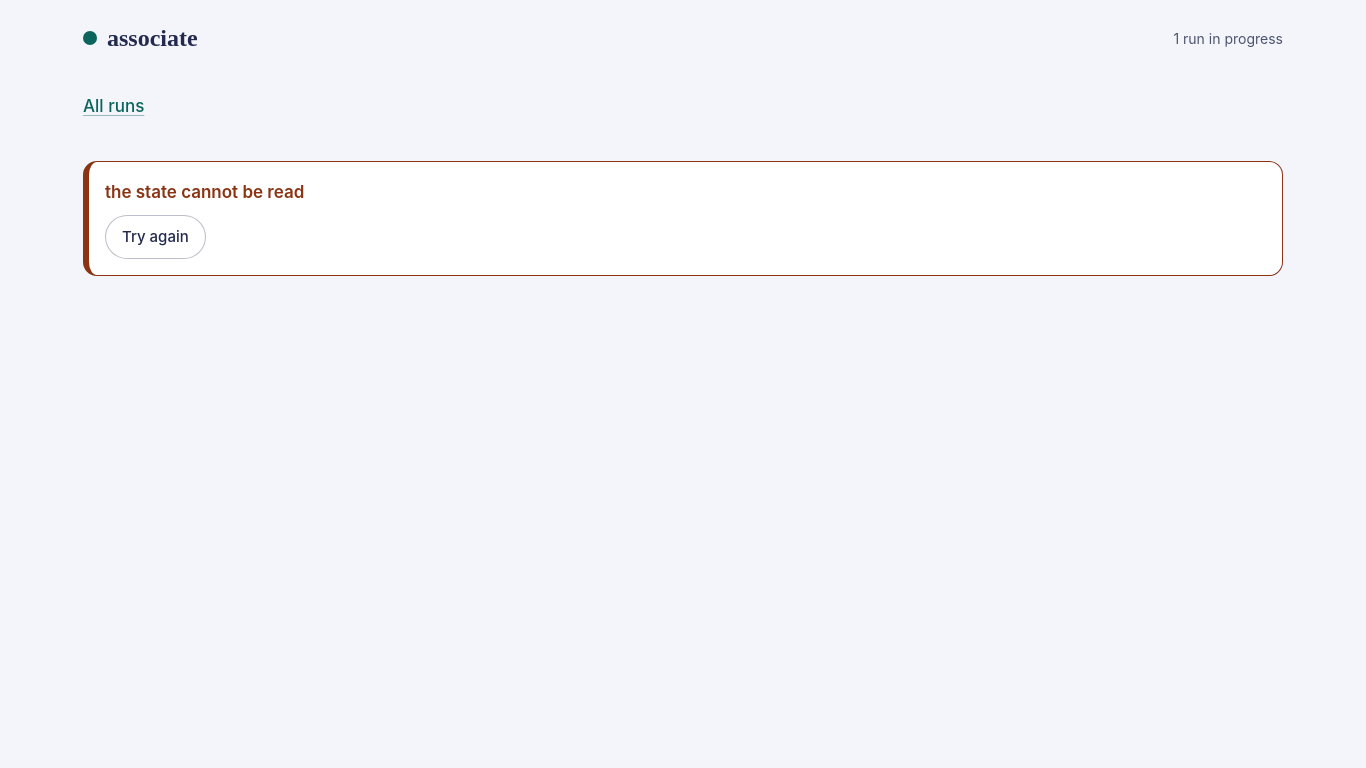
Test: the run page's states › shows an error with a retry
Expected: the message shows "the state cannot be read", x1=105 y1=182 x2=304 y2=202
What coordinates should you click on to do the following:
click the button "Try again"
I would click on:
 (155, 237)
Its box is x1=105 y1=215 x2=206 y2=259.
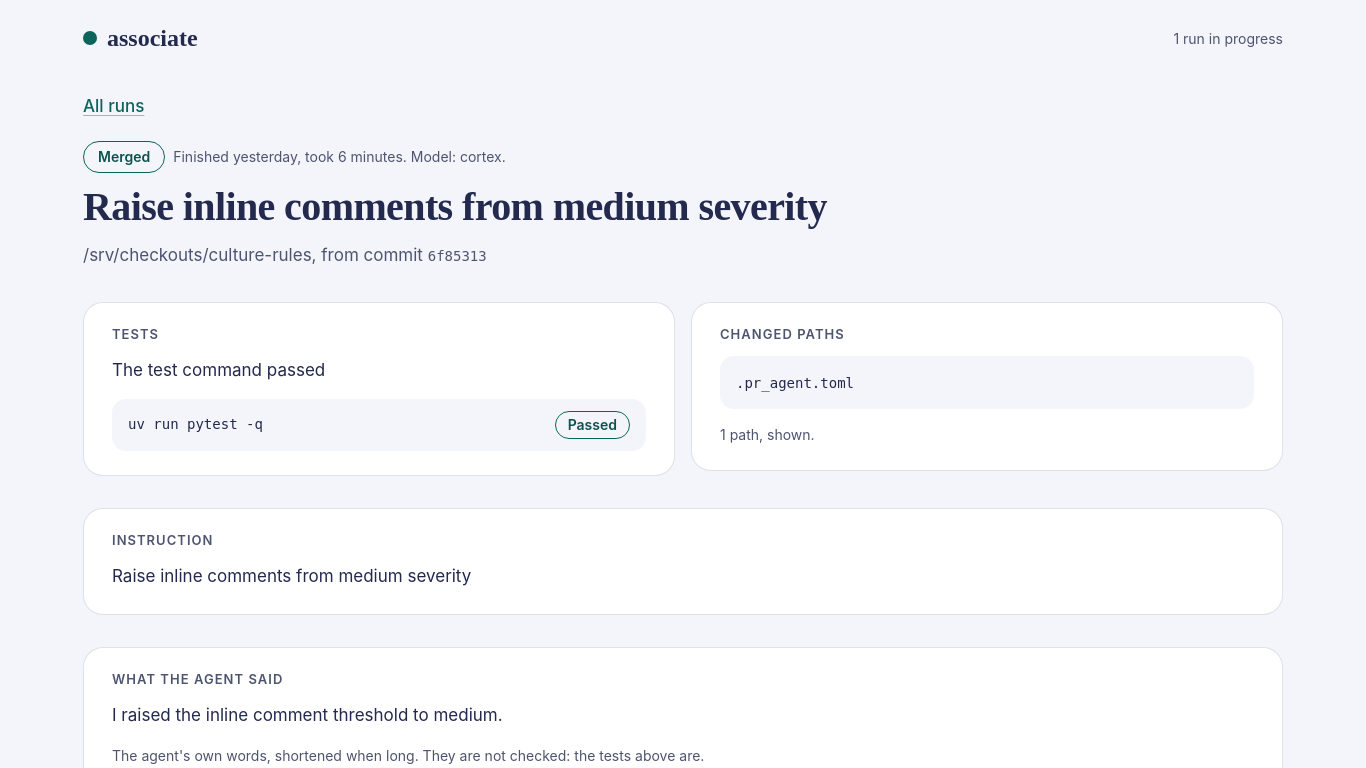
Expected: the heading "Raise inline comments from medium severity" is shown, x1=83 y1=184 x2=827 y2=229
